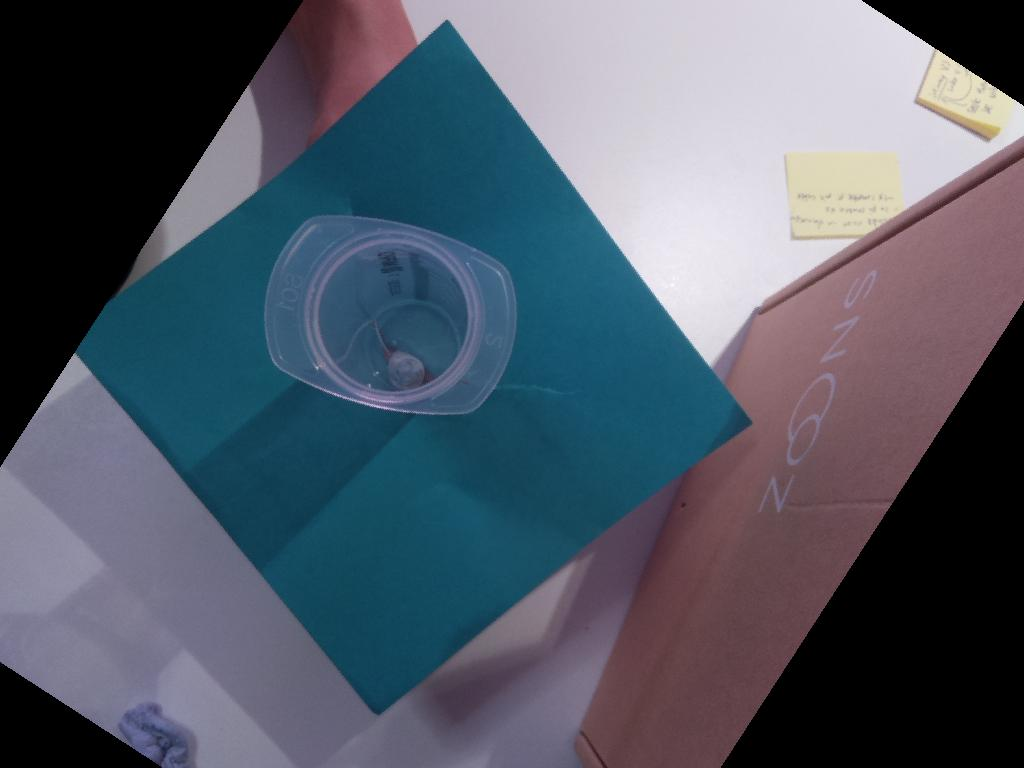clean: (262, 212, 518, 418)
